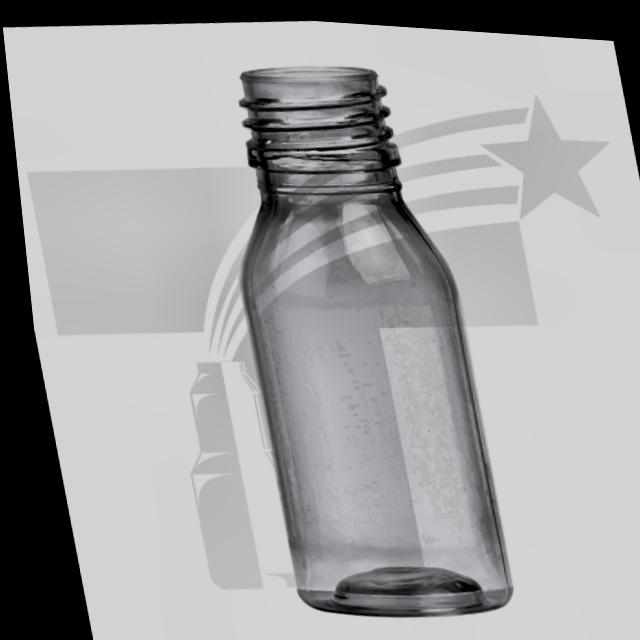Bottles: (187, 32, 540, 640)
